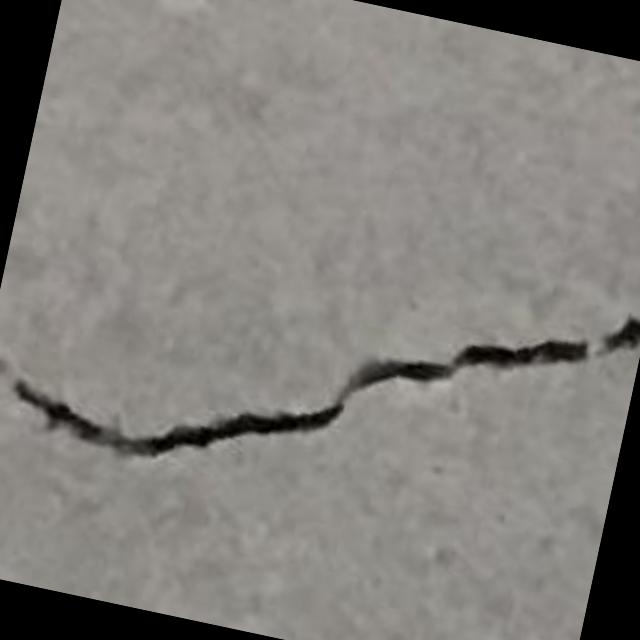crack: (0, 316, 639, 458)
